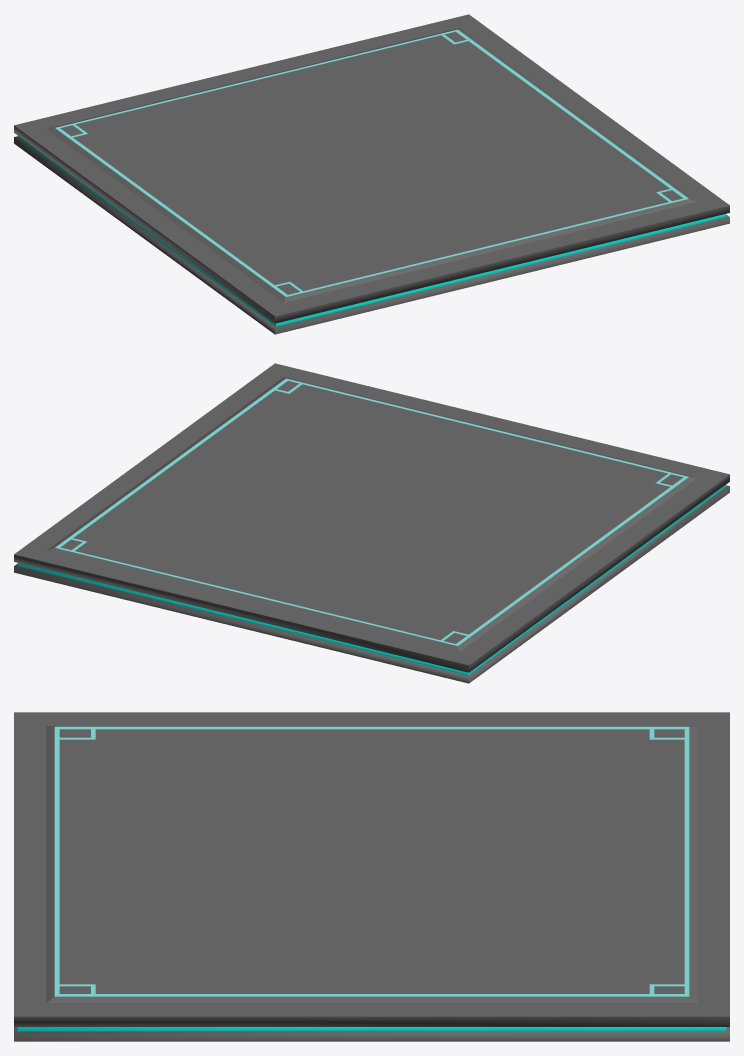
The picture shows the model from 3 angles, top to bottom: view 1: azimuth 30°, elevation 25°; view 2: azimuth 150°, elevation 25°; view 3: azimuth 270°, elevation 25°; orthographic projection. The views are drawn at different scales.
Parts seen in each view (by area): view 1: pCube4, pCube2, pCube3; view 2: pCube4, pCube2, pCube3; view 3: pCube4, pCube2, pCube3.
Boxes of the visible parts, box(x1,y1,x2,y2) form: pCube4: box(47, 28, 697, 302); pCube2: box(14, 14, 729, 334); pCube3: box(17, 136, 726, 326); pCube4: box(46, 377, 696, 651); pCube2: box(14, 363, 729, 683); pCube3: box(17, 485, 726, 675); pCube4: box(46, 726, 697, 1002); pCube2: box(14, 712, 729, 1041); pCube3: box(17, 1027, 726, 1031).
Size of the model in its own units: 10 by 0.4255 by 9.94.
